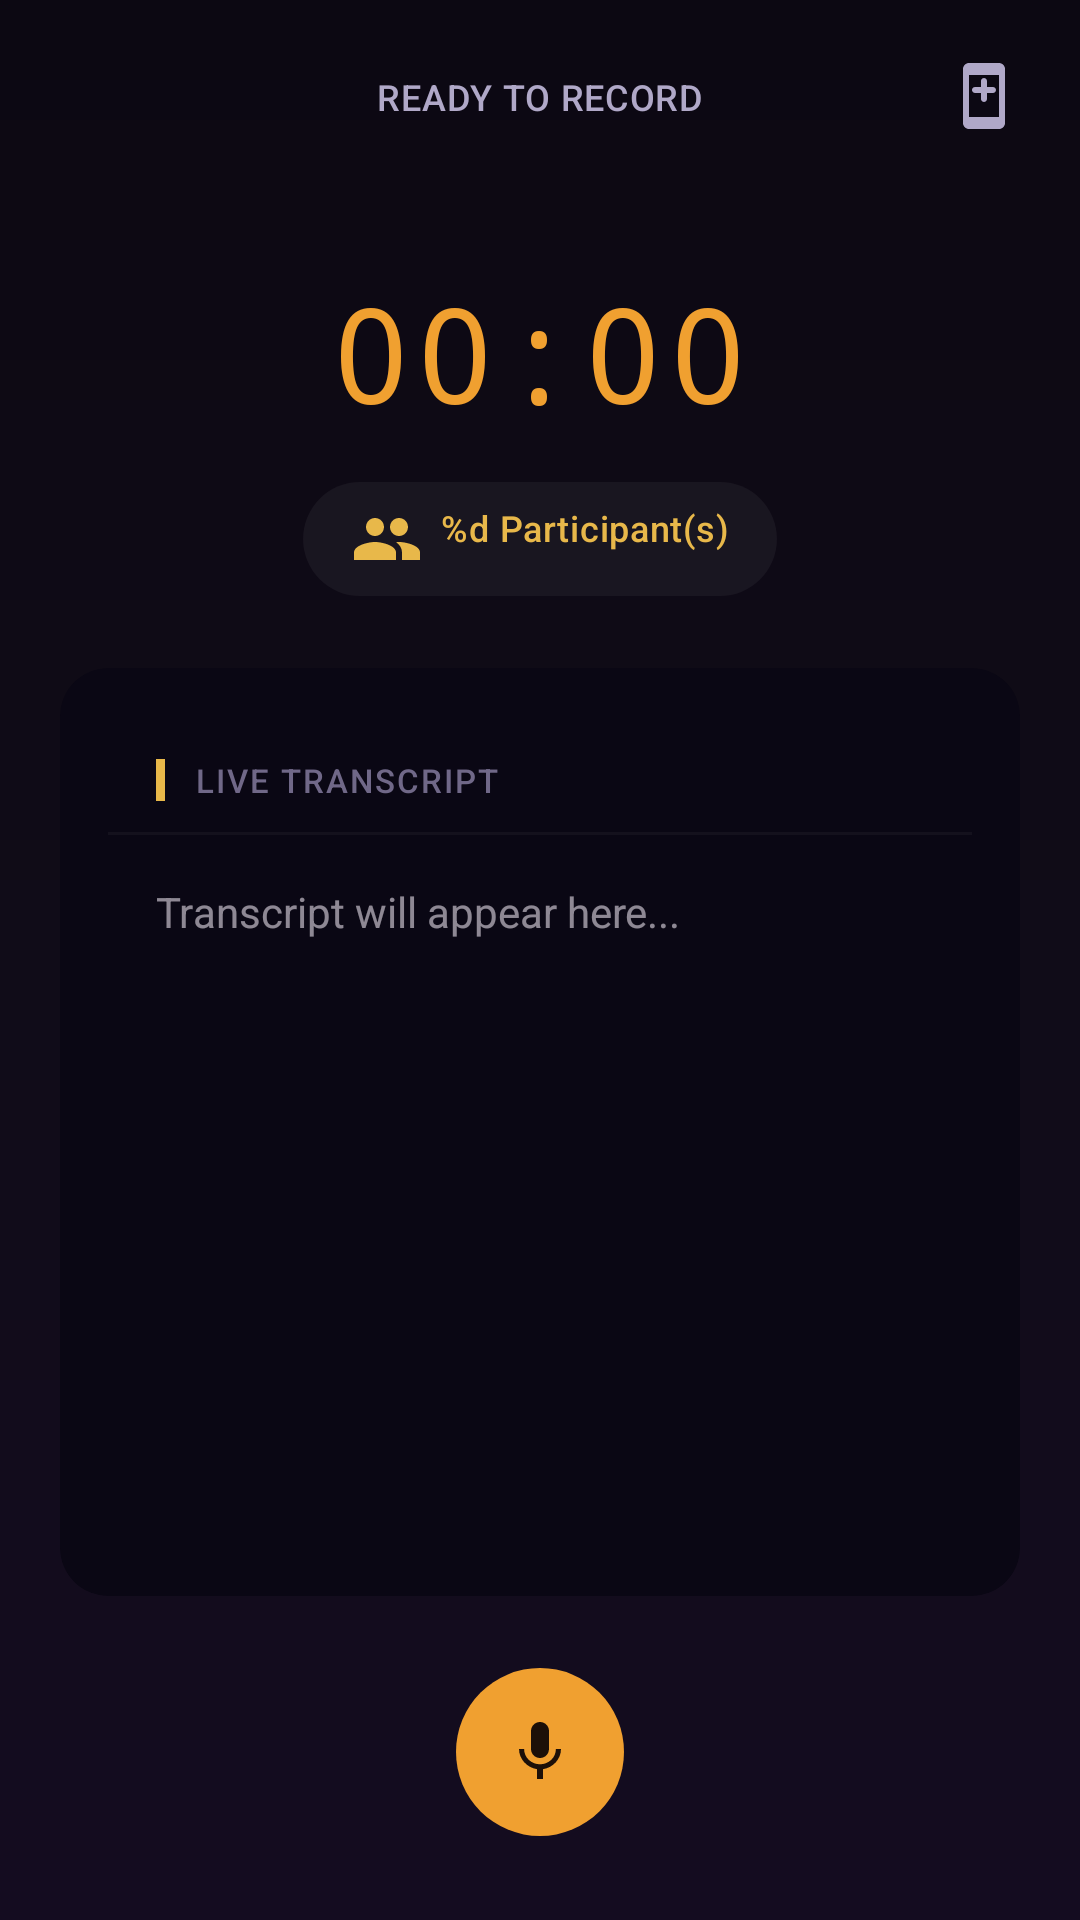

Named icons in this screenshot (1080x1920) and their bounding boxes, (x1, y1, x2, y2):
Invite Device: (963, 63, 1005, 129)
Start Recording: (456, 1668, 624, 1836)
